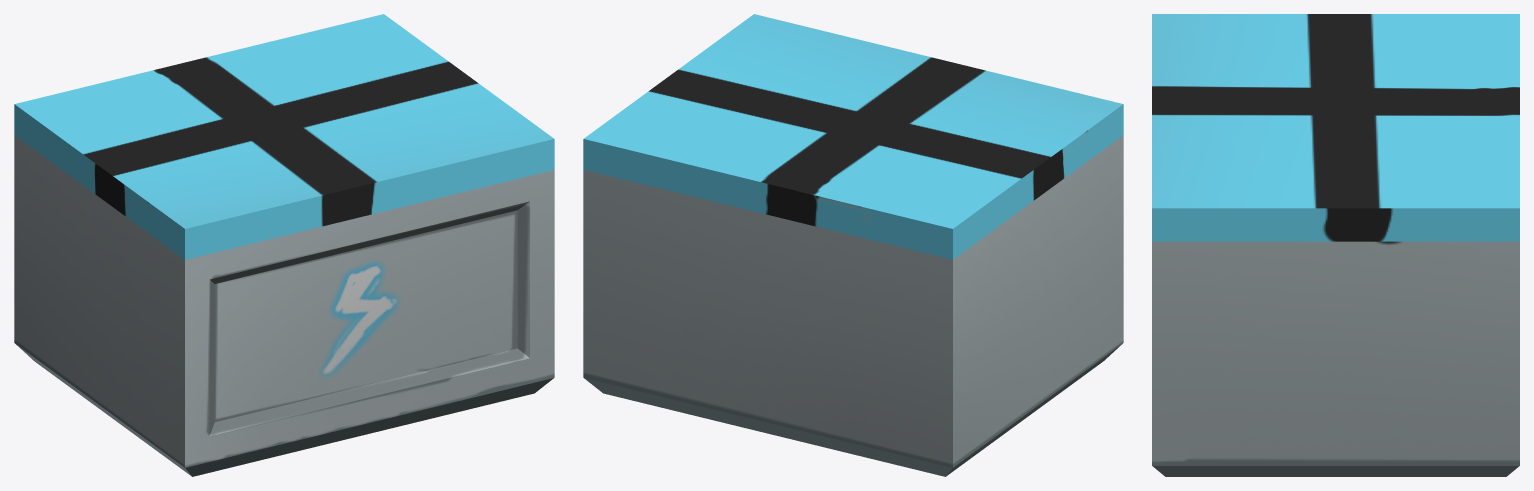
The picture shows the model from 3 angles, left to right: view 1: azimuth 30°, elevation 25°; view 2: azimuth 150°, elevation 25°; view 3: azimuth 270°, elevation 25°; orthographic projection. The views are drawn at different scales.
Parts seen in each view (by area): view 1: Cube; view 2: Cube; view 3: Cube.
Part boxes in pixels (left/top/right/bottom): Cube: left=14, top=14, right=554, bottom=476; Cube: left=583, top=14, right=1123, bottom=476; Cube: left=1152, top=14, right=1519, bottom=476.
Bounding box in the file's own units: 250 × 165 × 200.
Materials: 1 (1 with a texture image).
